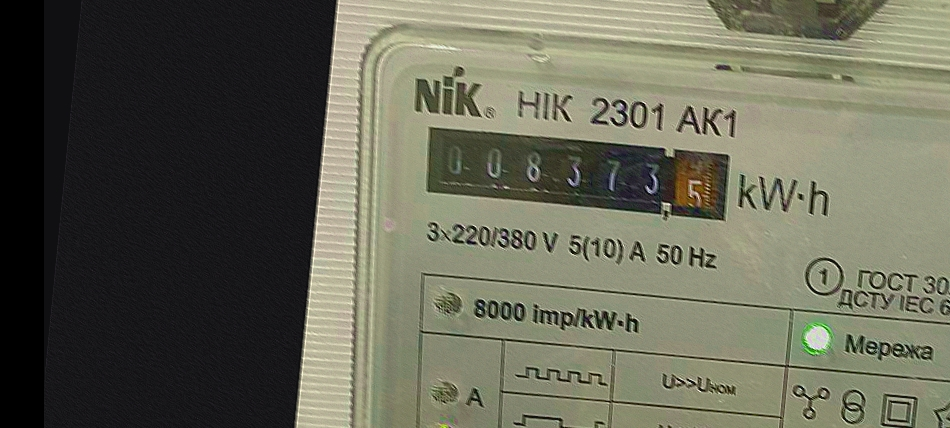0: (445, 141, 469, 178), (485, 143, 507, 181)
3: (641, 159, 667, 198), (564, 151, 588, 190)
4: (688, 155, 708, 177)
5: (686, 176, 708, 208)
7: (603, 154, 625, 195)
8: (524, 147, 548, 185)
screen: (418, 117, 742, 235)
